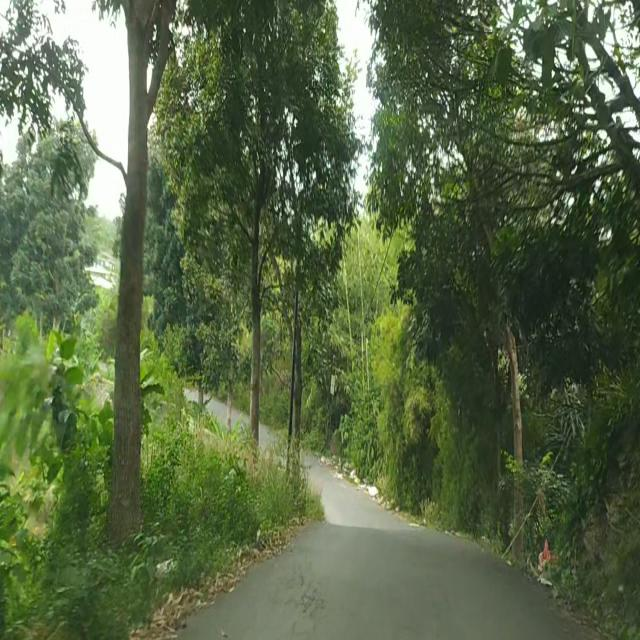Drain Hole: (280, 566, 328, 619)
